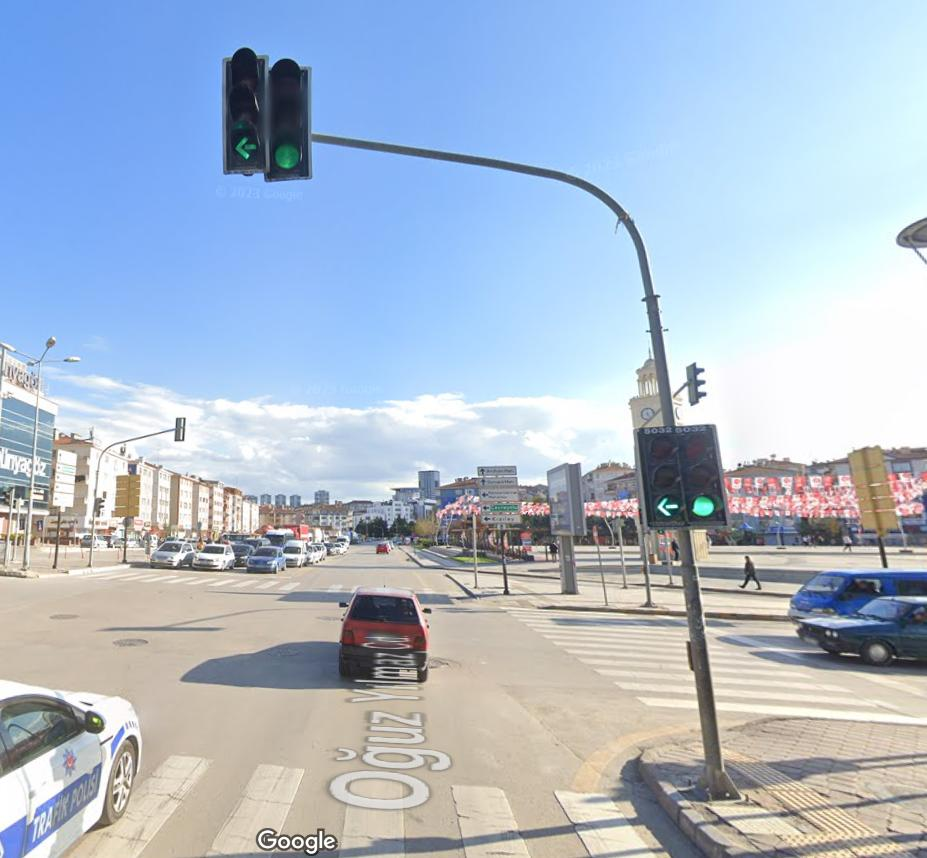greenlight: (225, 54, 270, 166), (270, 58, 311, 171), (642, 431, 685, 519), (684, 430, 724, 517)
